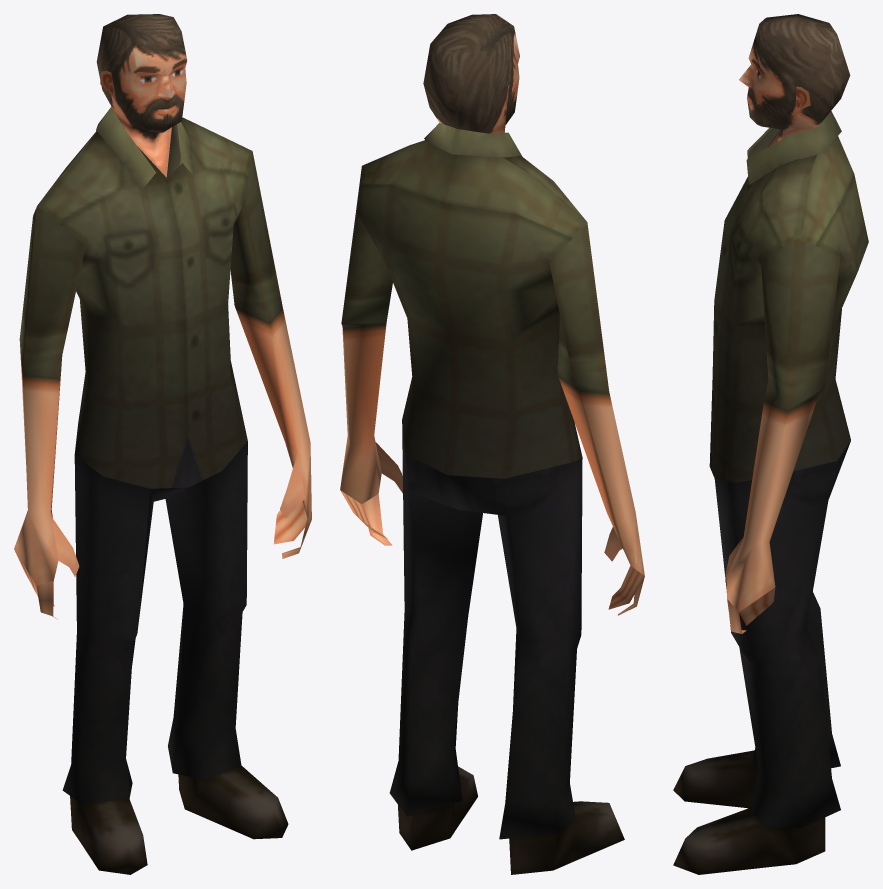
The model's file is joel01.obj.
3 renders of one model, left to right at view 1: azimuth 30°, elevation 25°; view 2: azimuth 150°, elevation 25°; view 3: azimuth 270°, elevation 25°, orthographic. The views are drawn at different scales.
Parts seen in each view (by area): view 1: joel; view 2: joel; view 3: joel.
Part boxes in pixels (box(x1,y1,x2,y2)): joel: box(14, 14, 311, 874); joel: box(340, 14, 644, 874); joel: box(673, 14, 868, 874).
Bounding box in the file's own units: 11.87 × 31.8 × 6.98.
